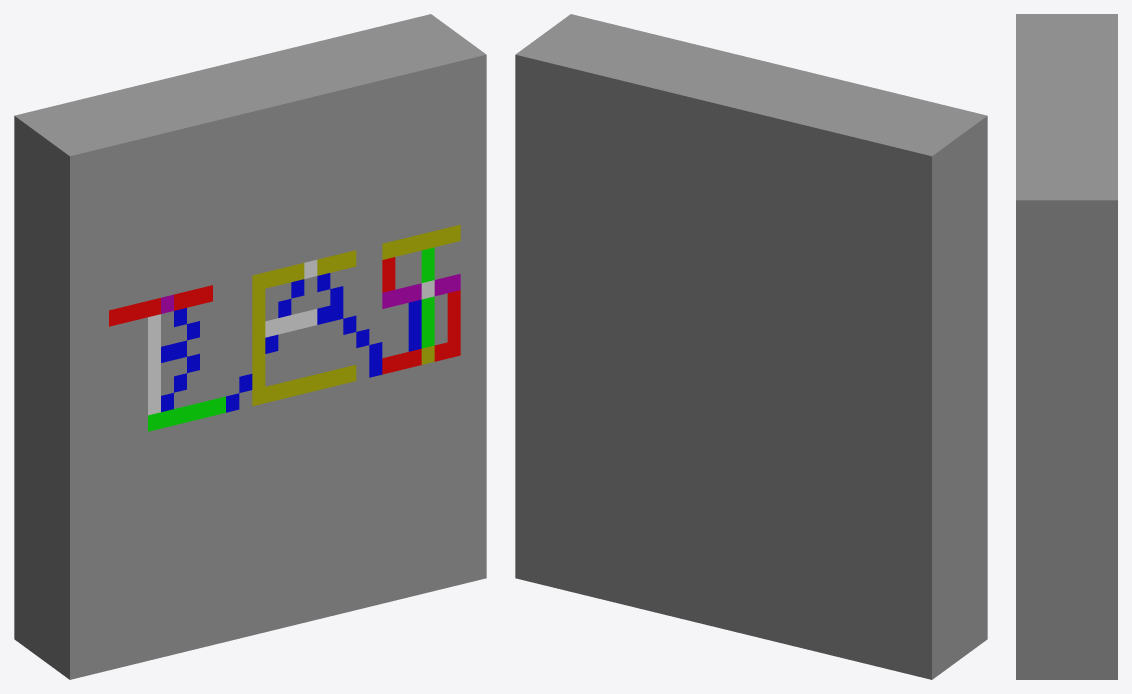
Rendered from test_pizzle_rgb.glb.
3 renders of one model, left to right at view 1: azimuth 30°, elevation 25°; view 2: azimuth 150°, elevation 25°; view 3: azimuth 270°, elevation 25°, orthographic. The views are drawn at different scales.
Parts seen in each view (by area): view 1: Cube; view 2: Cube; view 3: Cube.
Boxes of the visible parts, x1,y1,x2,y2 form: Cube: [14, 14, 486, 679]; Cube: [515, 14, 987, 679]; Cube: [1016, 14, 1117, 679].
Bounding box in the file's own units: 11.61 × 13.94 × 2.68.
